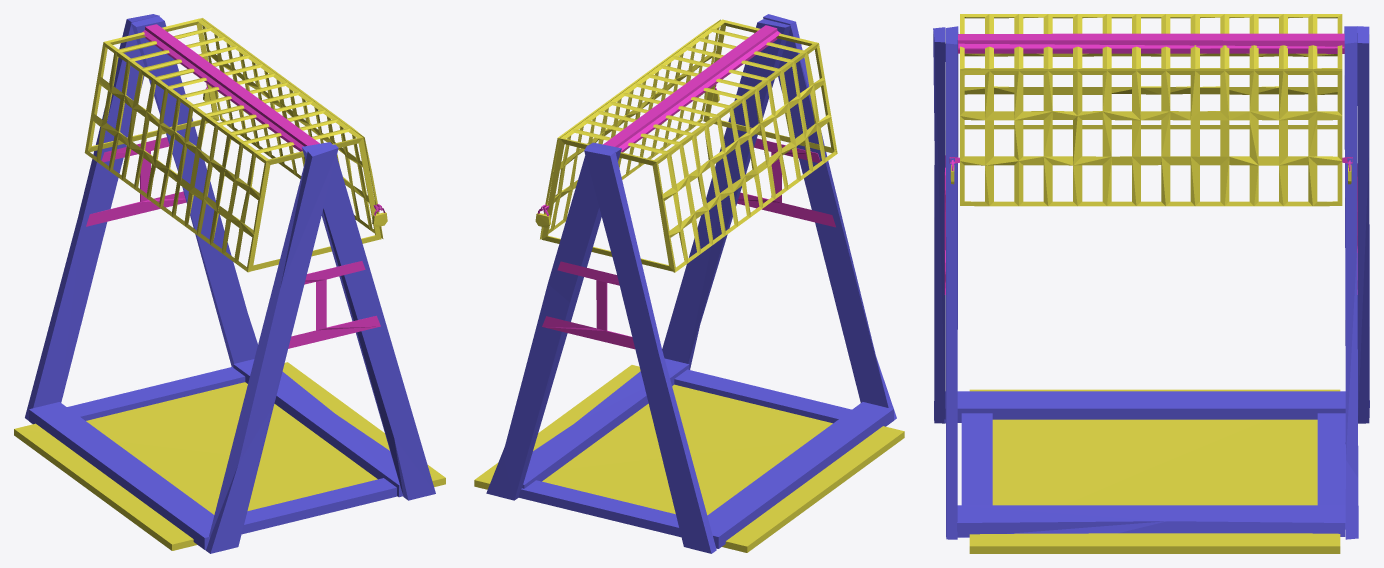
File: Axe_Blade_Support_01_Collider.fbx
3 views of the same model, side by side, from view 1: azimuth 30°, elevation 25°; view 2: azimuth 150°, elevation 25°; view 3: azimuth 270°, elevation 25° (orthographic). The views are drawn at different scales.
Parts seen in each view (by area): view 1: Plane.001; view 2: Plane.001; view 3: Plane.001.
Part boxes in pixels (bbox=[...]): Plane.001: bbox=[14, 14, 445, 553]; Plane.001: bbox=[474, 14, 904, 553]; Plane.001: bbox=[933, 14, 1369, 553].
Size of the model in its own units: 88.23 by 116 by 104.
